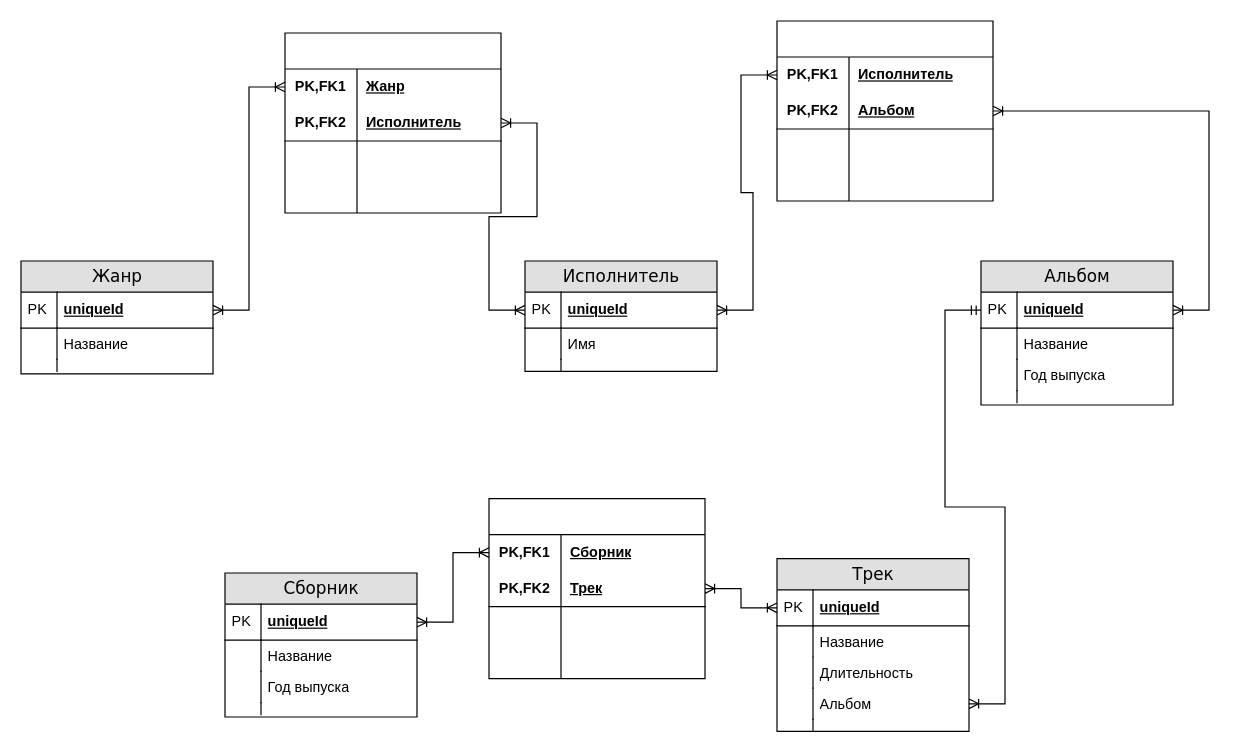
This 1241x752 diagram has some shape labels left out. The box of each missing label's shape, as (x1, y1, x2, y2) in pixels:
ЖанрИсполнитель: (284, 32, 501, 213)
ИсполнительАльбом: (776, 20, 993, 201)
СборникТрек: (488, 497, 705, 679)
